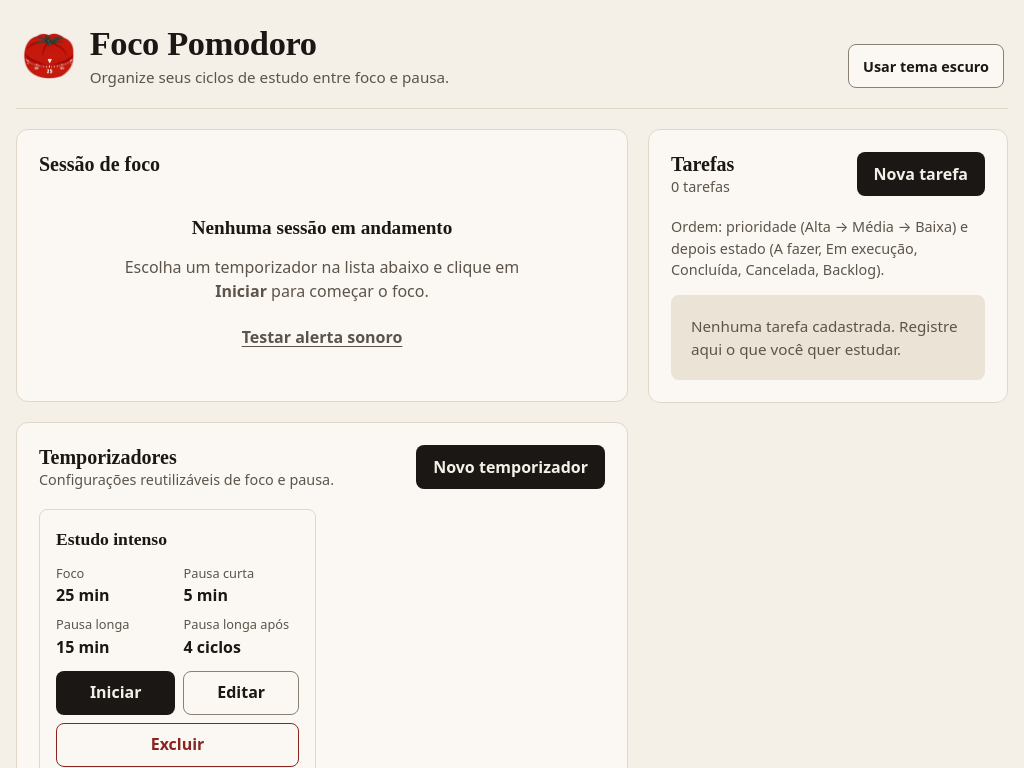
Test case: temporizadores personalizados (UC01, UC02, UC03) › exclusão exige confirmação e cancelar não remove
Click the button "Excluir" at (178, 744), box [56,722,299,766]
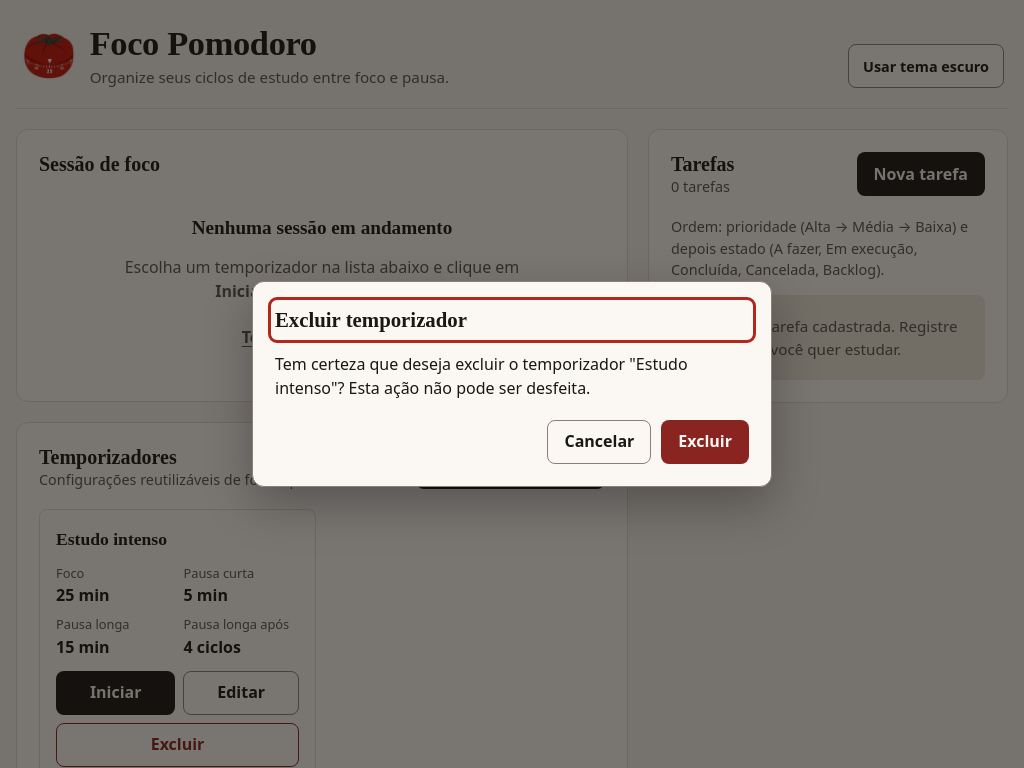
Expected: the text "Tem certeza que deseja excluir o temporizador \"Estudo intenso\"" is shown, [275,353,688,399]
Click the button "Cancelar" at (599, 442), box [548,420,651,464]
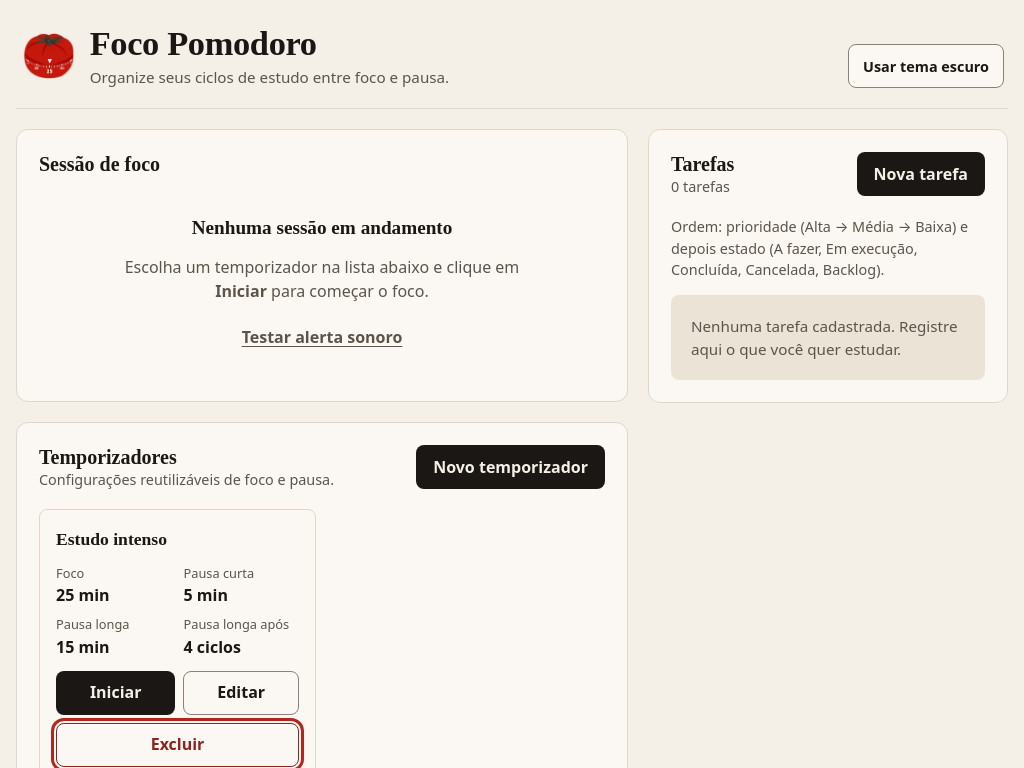
Click the button "Excluir" at (178, 744), box [56,722,299,766]
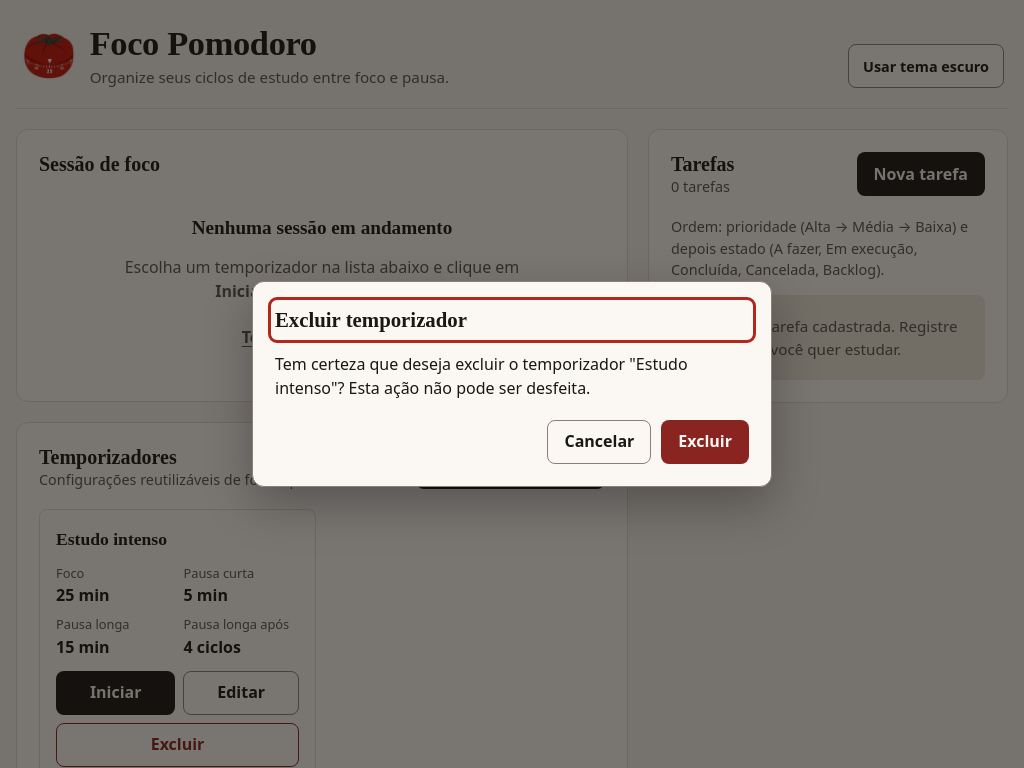
Click the button "Excluir" at (705, 442), box [661,420,749,464]
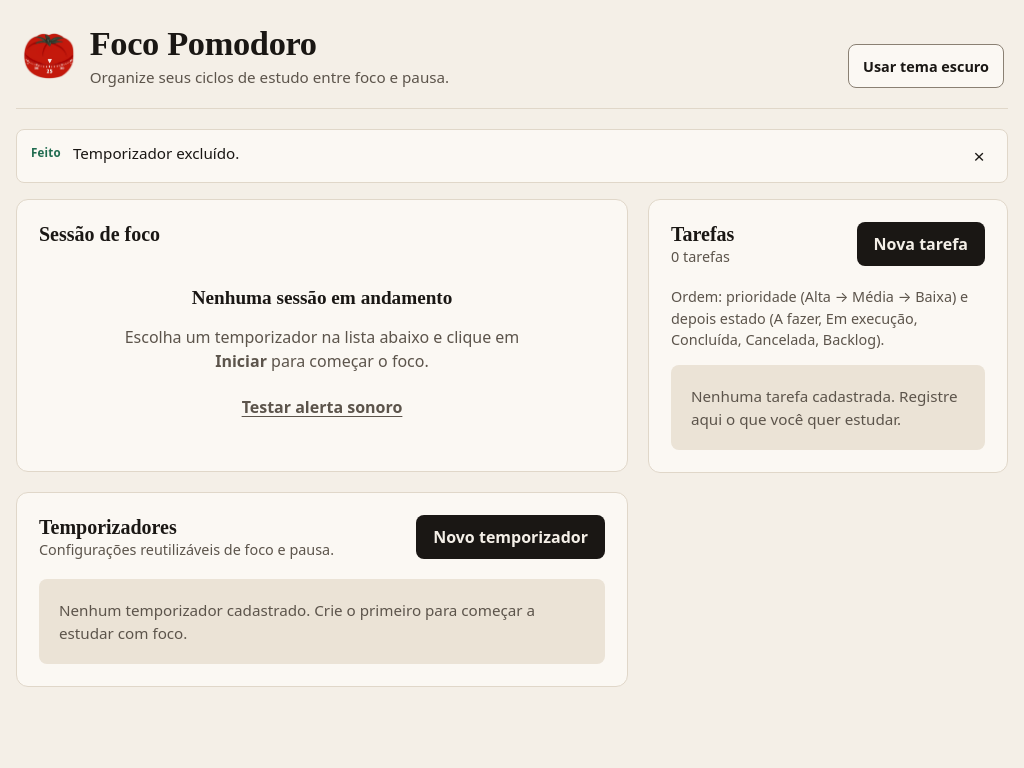
Expected: the text "Nenhum temporizador cadastrado" is shown, [59,600,535,643]
